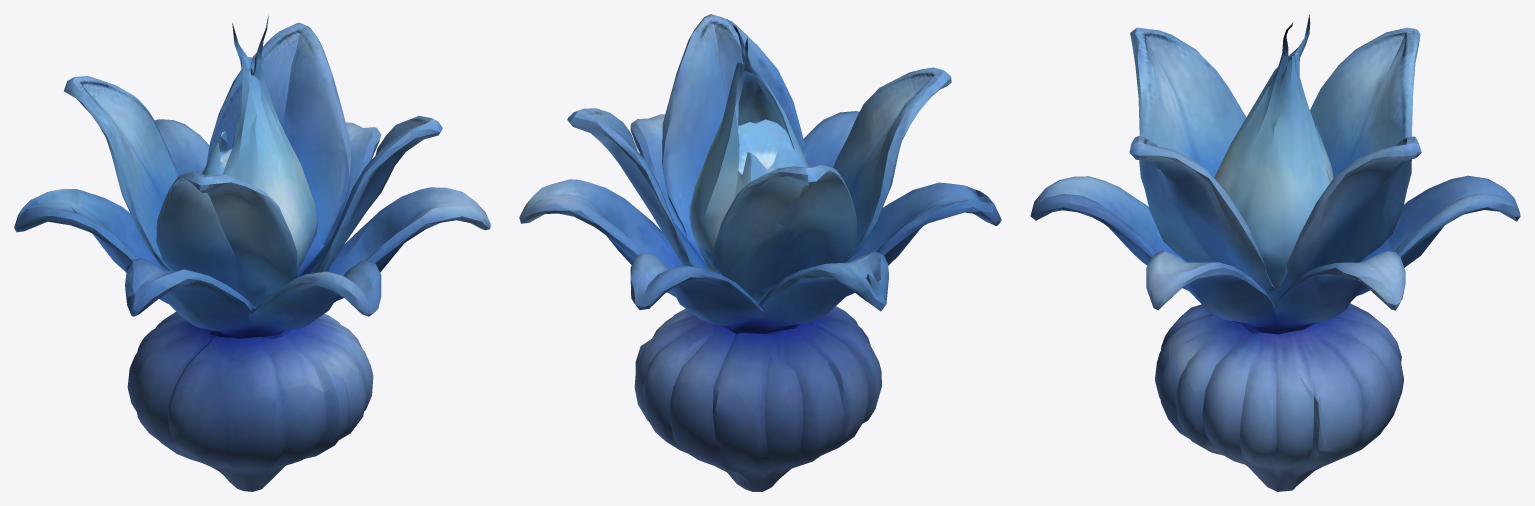
The model's file is bot.glb.
The picture shows the model from 3 angles, left to right: view 1: azimuth 30°, elevation 25°; view 2: azimuth 150°, elevation 25°; view 3: azimuth 270°, elevation 25°; orthographic projection. The views are drawn at different scales.
Parts seen in each view (by area): view 1: Bioluminescent Plant Pods; view 2: Bioluminescent Plant Pods; view 3: Bioluminescent Plant Pods.
Part boxes in pixels (x1,y1,x2,y2): Bioluminescent Plant Pods: (14,14,490,491); Bioluminescent Plant Pods: (519,14,1001,491); Bioluminescent Plant Pods: (1030,14,1520,491).
Bounding box in the file's own units: 1.22 × 1.5 × 1.39.
Materials: 1 (1 with a texture image).
